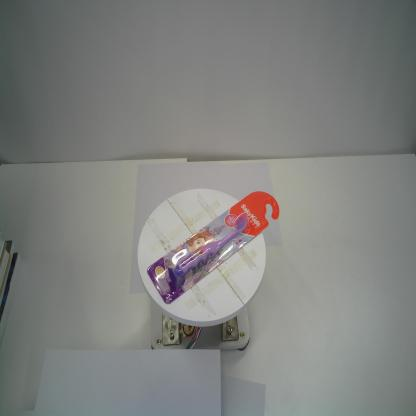Personal Hygiene: (147, 189, 279, 306)
